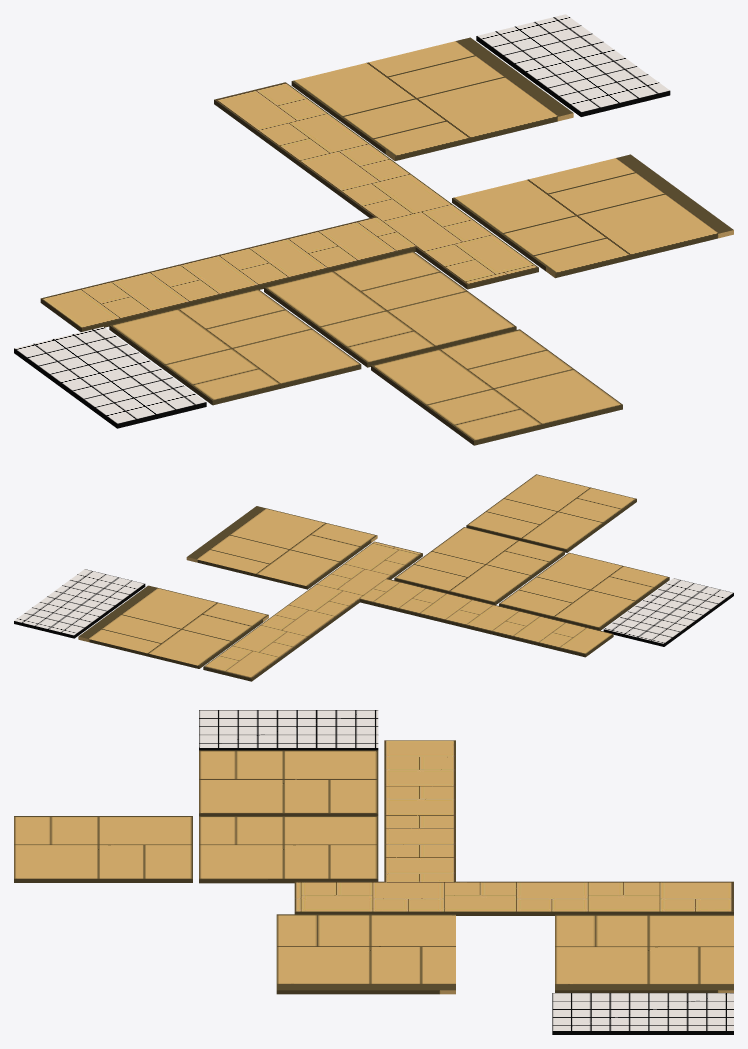
Rendered from chao_casa.fbx.
The picture shows the model from 3 angles, top to bottom: view 1: azimuth 30°, elevation 25°; view 2: azimuth 150°, elevation 25°; view 3: azimuth 270°, elevation 25°; orthographic projection. The views are drawn at different scales.
Parts seen in each view (by area): view 1: polySurface266, polySurface270, polySurface267, polySurface84, polySurface954, polySurface262, polySurface271, polySurface273; view 2: polySurface266, polySurface267, polySurface270, polySurface84, polySurface262, polySurface954, polySurface271, polySurface273; view 3: polySurface266, polySurface267, polySurface270, polySurface262, polySurface84, polySurface954, polySurface271, polySurface273.
Part boxes in pixels (<box>): polySurface266: <box>40,82,538,331</box>; polySurface270: <box>291,37,573,160</box>; polySurface267: <box>452,154,733,278</box>; polySurface84: <box>371,329,622,445</box>; polySurface954: <box>109,289,361,405</box>; polySurface262: <box>264,251,516,367</box>; polySurface271: <box>476,14,670,116</box>; polySurface273: <box>14,326,206,428</box>; polySurface266: <box>203,541,613,681</box>; polySurface267: <box>186,506,377,589</box>; polySurface270: <box>78,585,268,668</box>; polySurface84: <box>466,474,636,552</box>; polySurface262: <box>394,527,564,604</box>; polySurface954: <box>499,552,669,630</box>; polySurface271: <box>14,569,145,638</box>; polySurface273: <box>603,578,733,646</box>; polySurface266: <box>294,740,733,915</box>; polySurface267: <box>276,914,455,994</box>; polySurface270: <box>555,914,733,992</box>; polySurface262: <box>199,816,378,883</box>; polySurface84: <box>14,816,192,882</box>; polySurface954: <box>199,750,378,815</box>; polySurface271: <box>552,993,733,1034</box>; polySurface273: <box>199,710,378,750</box>.
Size of the model in its own units: 12.7 by 0.08 by 12.06.
